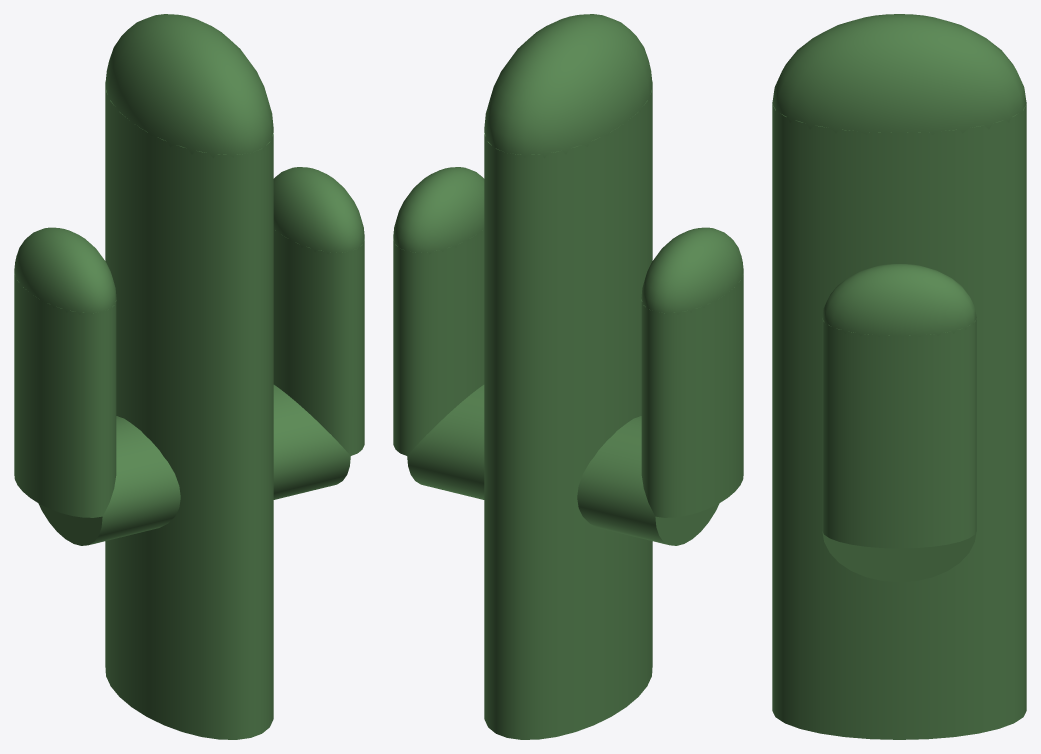
File: wp-cactus.glb
The picture shows the model from 3 angles, left to right: view 1: azimuth 30°, elevation 25°; view 2: azimuth 150°, elevation 25°; view 3: azimuth 270°, elevation 25°; orthographic projection. The views are drawn at different scales.
Visible parts, largest first — view 1: wp-cactus; view 2: wp-cactus; view 3: wp-cactus.
Boxes of the visible parts, box(x1,y1,x2,y2) form: wp-cactus: box(14, 14, 364, 739); wp-cactus: box(393, 14, 743, 739); wp-cactus: box(772, 14, 1026, 739).
Bounding box in the file's own units: 0.6 × 1.2 × 0.4.
